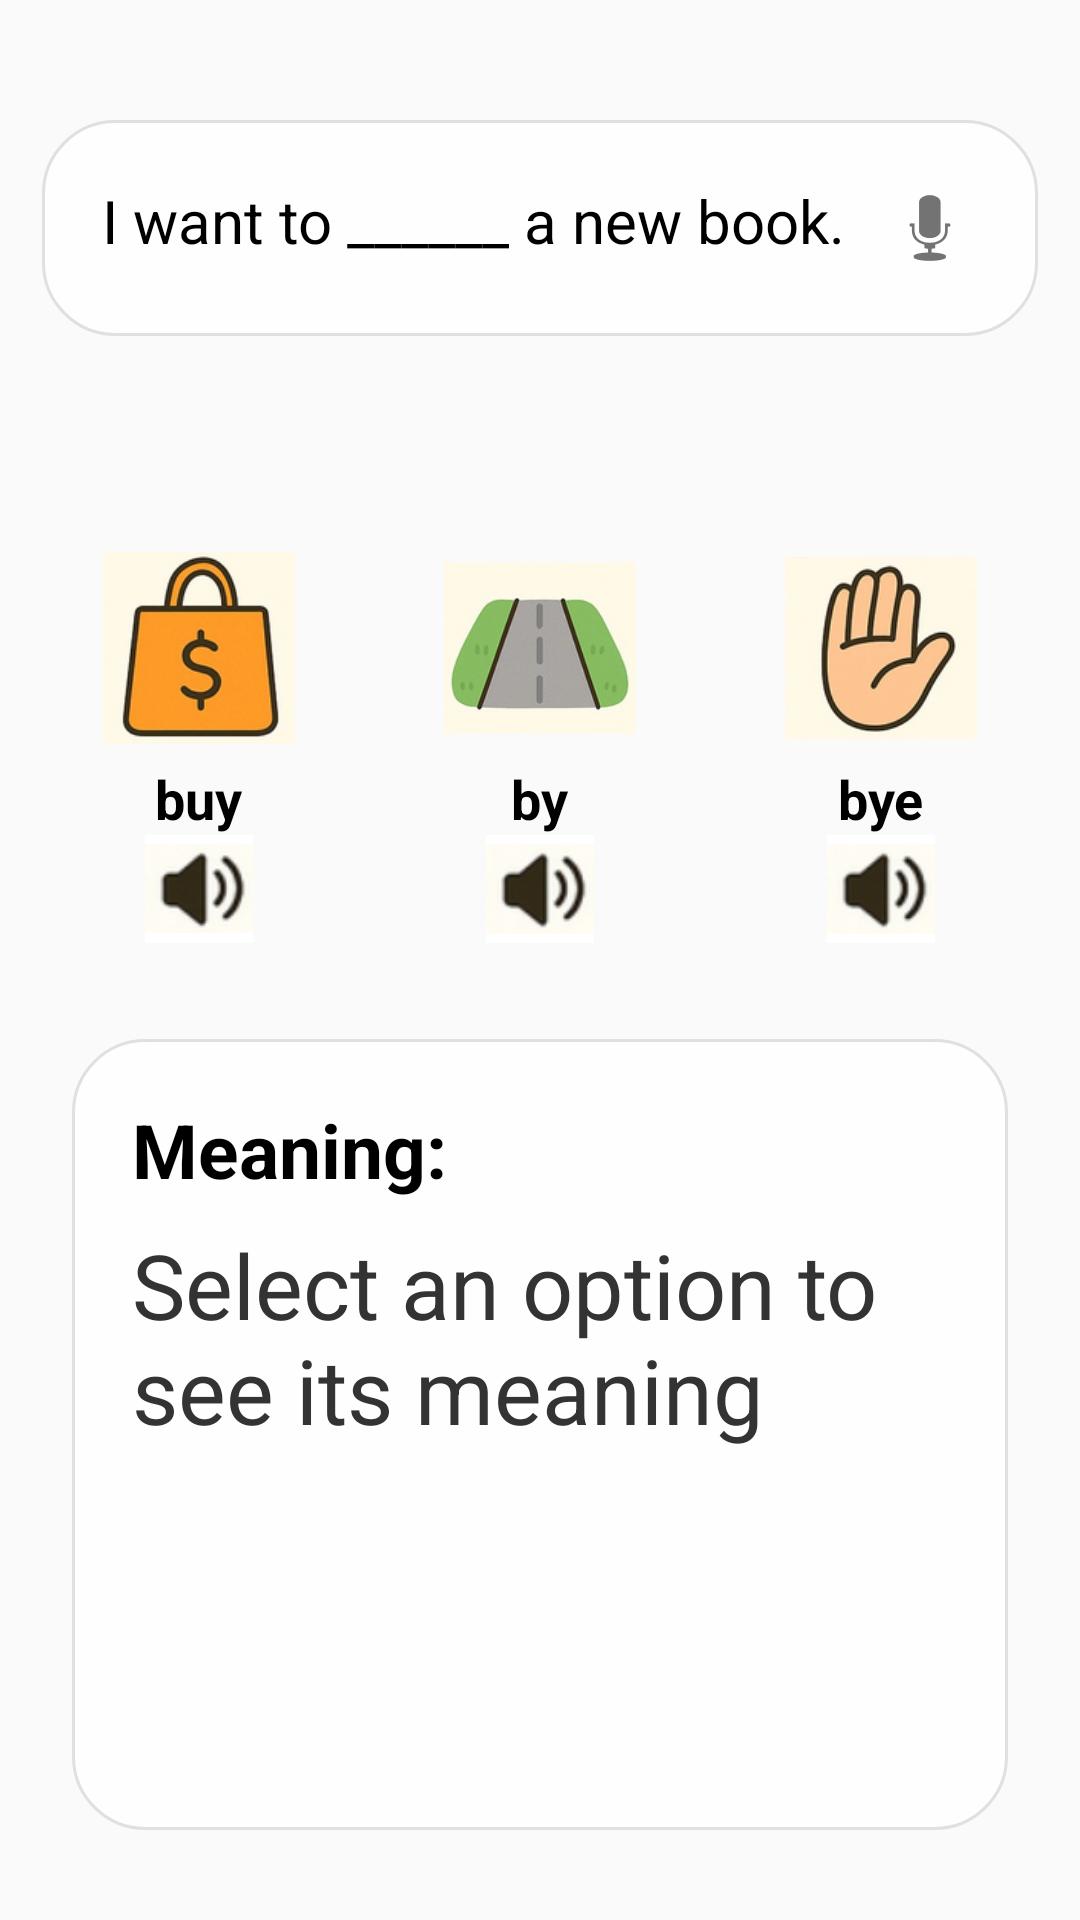

Screen size 1080w x 1920h. Icon name, then its box in pixels as (x1, y1, x2, y2):
Speak buy: (160, 852, 245, 927)
Speak by: (501, 853, 586, 928)
Speak bye: (842, 853, 927, 928)
